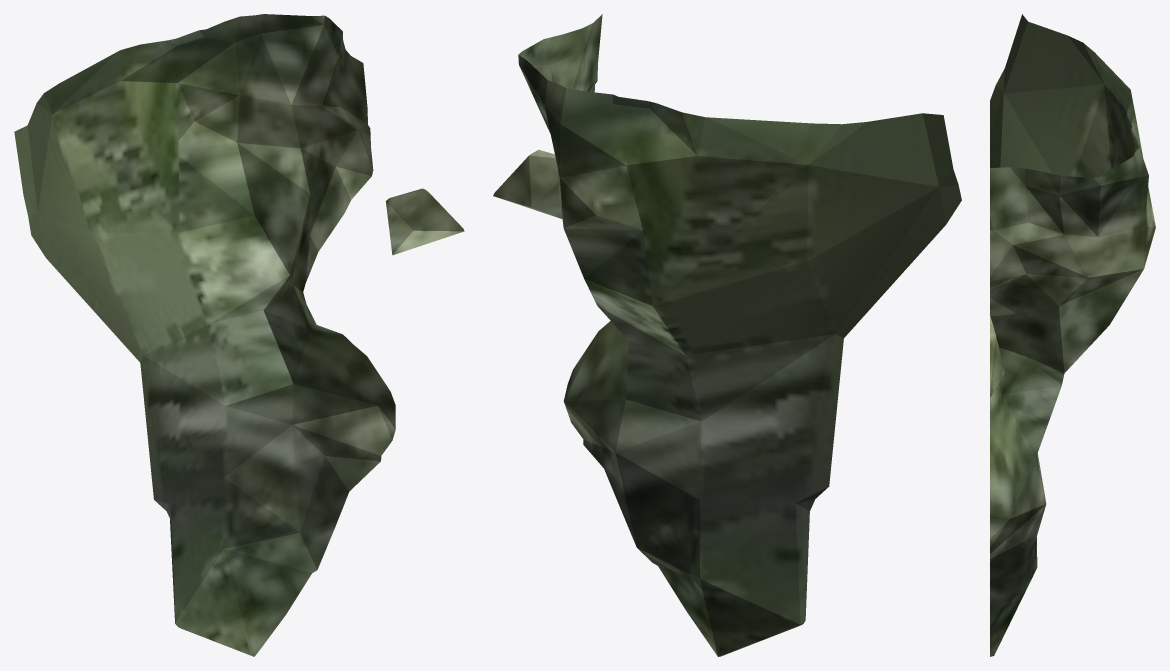
3 views of the same model, side by side, from view 1: azimuth 30°, elevation 25°; view 2: azimuth 150°, elevation 25°; view 3: azimuth 270°, elevation 25° (orthographic). The views are drawn at different scales.
Size of the model in its own units: 0.9726 by 1.22 by 0.3392.
1 material, 1 textured.
